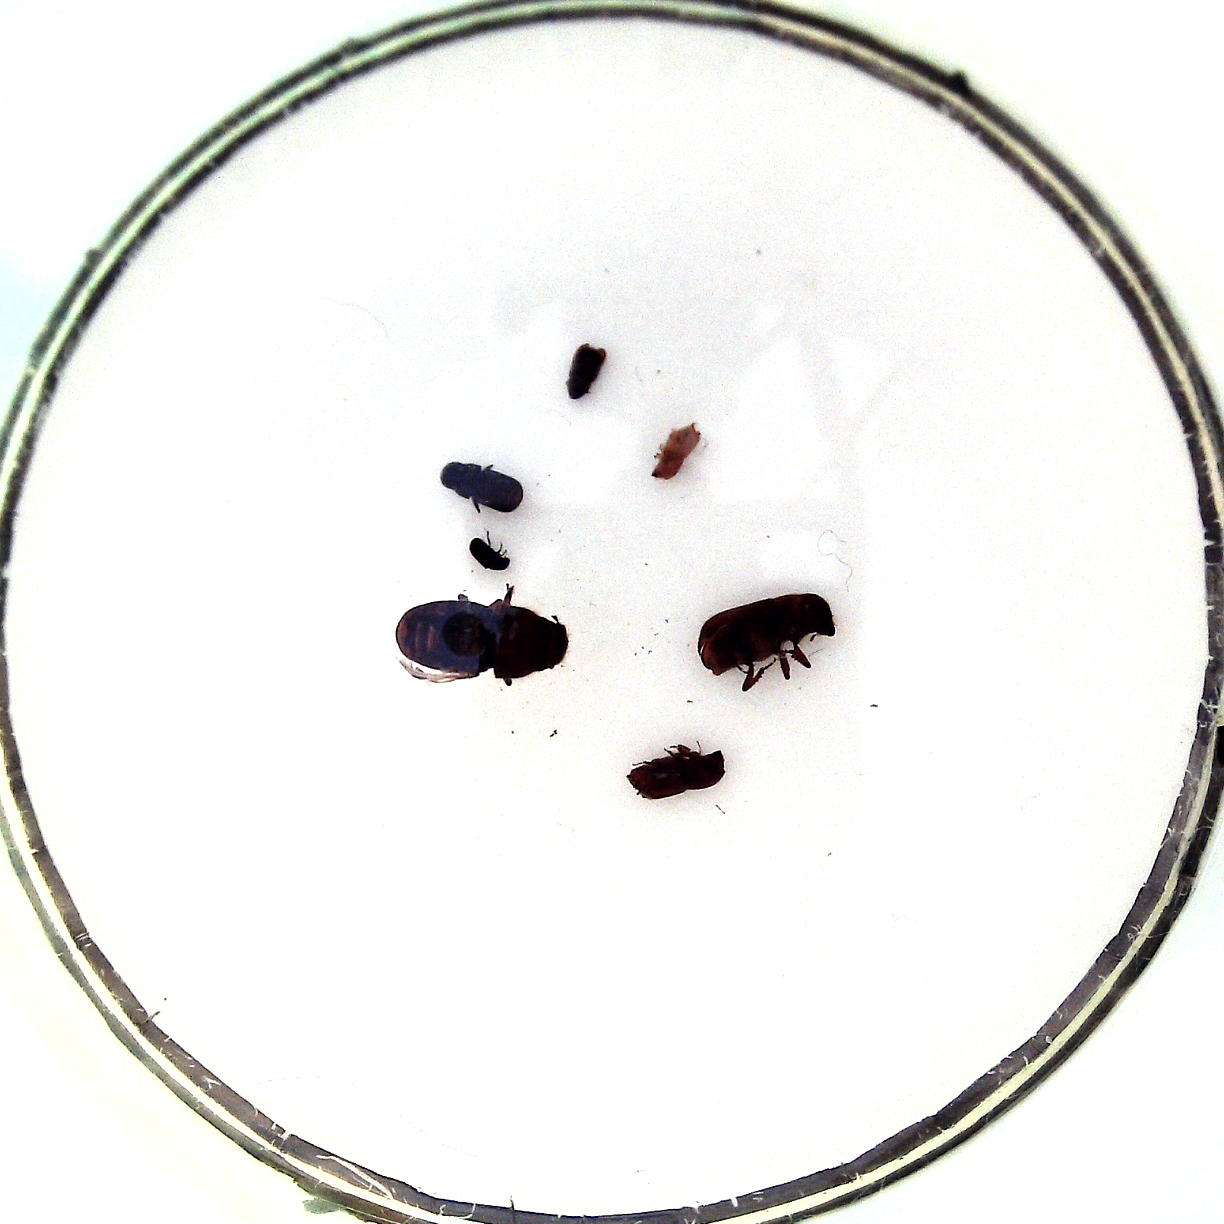Leconte: (395, 600, 569, 679), (697, 594, 835, 675)
acuminatus: (469, 536, 510, 569)
armandi: (441, 461, 523, 513)
coleoptera: (651, 423, 701, 480), (568, 343, 608, 399)
linnaeus: (625, 749, 727, 800)
